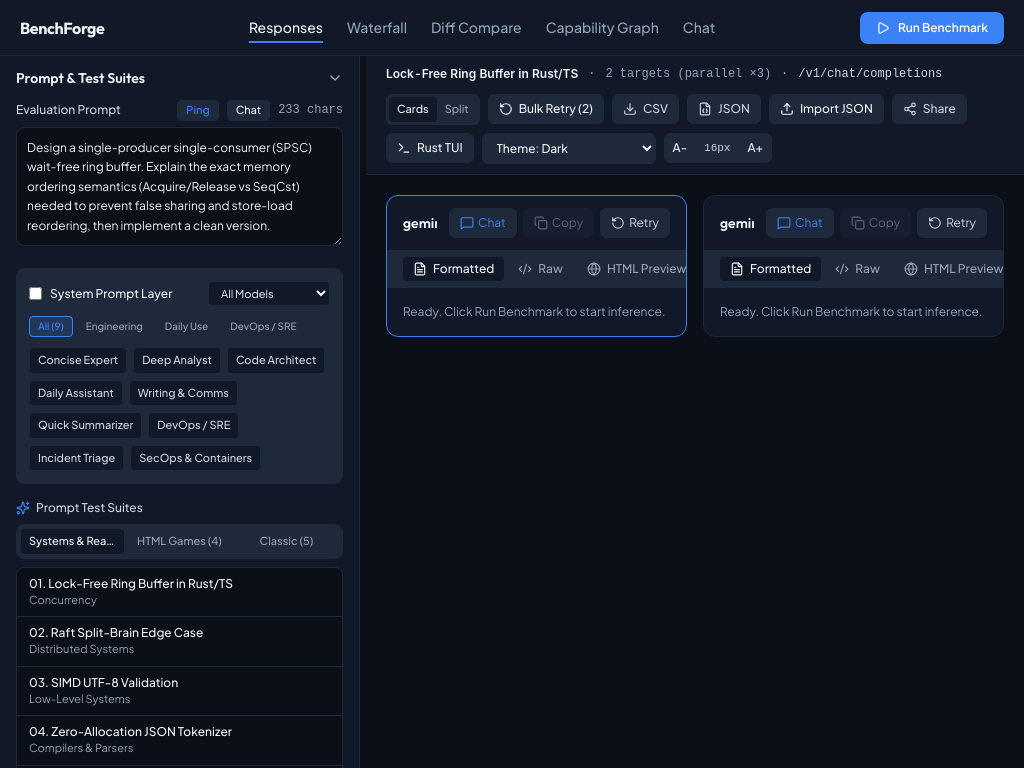
Test: Extended Coverage Suite (50+ Target) › supports Daily Use & DevOps Use personas, 100 max threads, and Endpoint Type selector in UI
Expected: the button "Systems & Reasoning (18)" is shown, [21,529,124,554]
Click the 2nd button "DevOps / SRE".
click(194, 425)  # box [148,412,239,439]
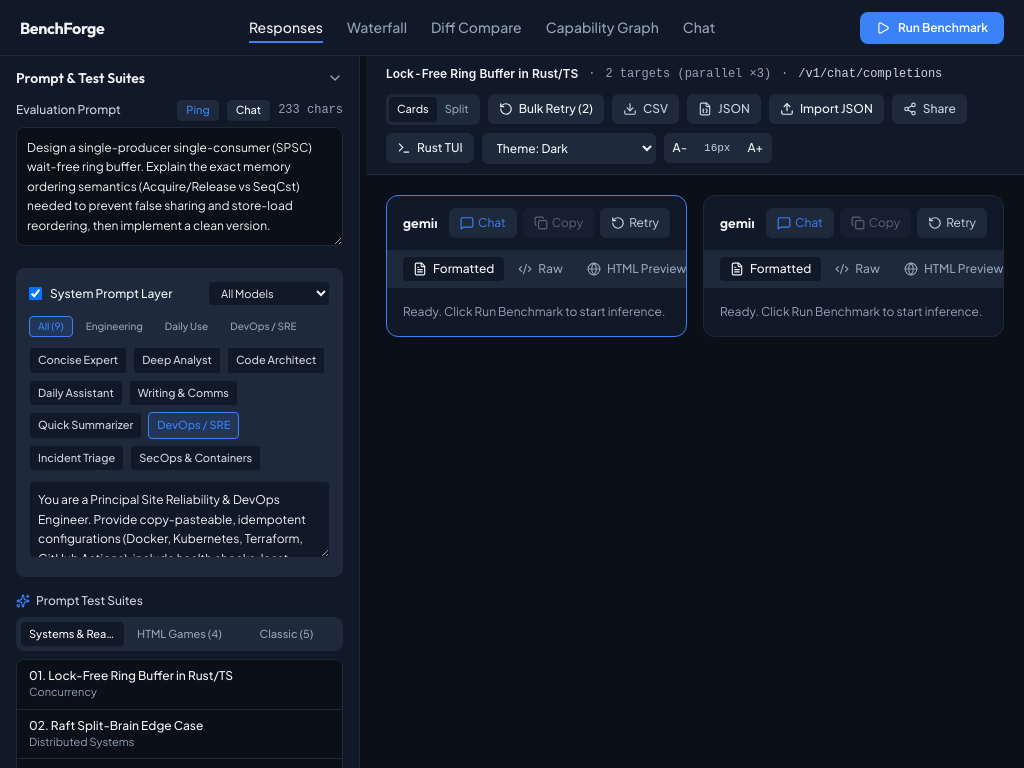
Result: the text box showing "Principal Site Reliability" is shown at [29,481,330,558]
Click the button "Daily Assistant".
click(76, 393)  # box [29,380,123,406]
(page scrolled)
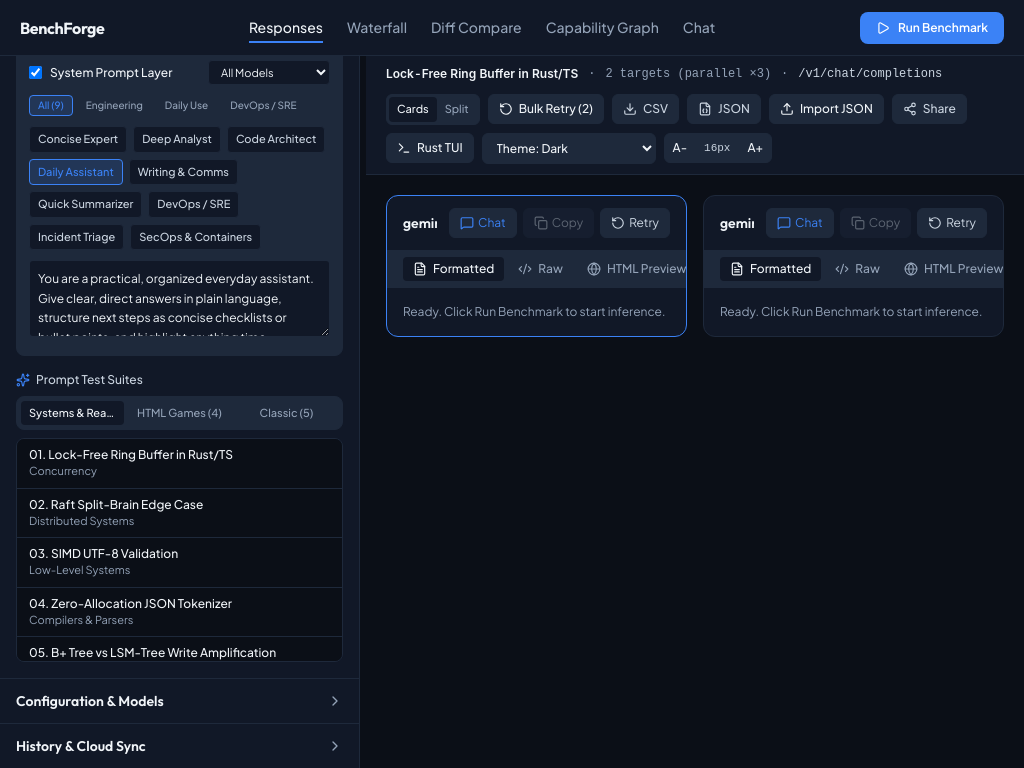
Result: the text box showing "everyday assistant" is shown at [29,260,330,337]
Click the button "Configuration & Models".
click(90, 701)  # box [0,679,359,723]
(page scrolled)
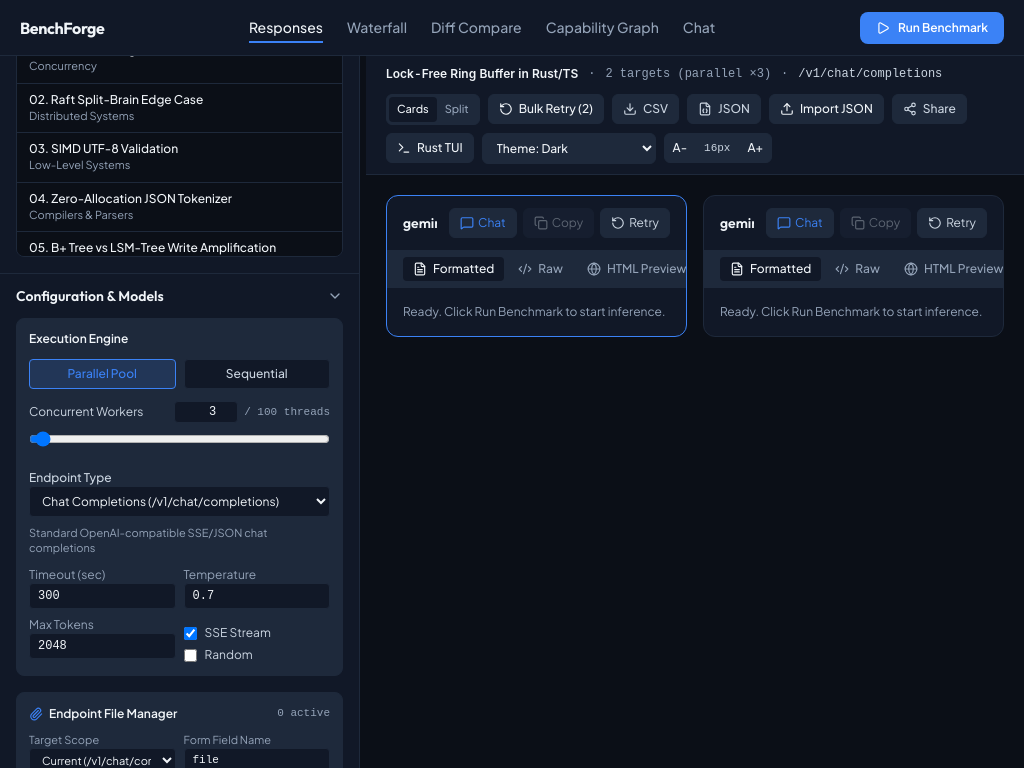
Replace the text in the number field named "Concurrent workers count" with "100" at (206, 412), box [174,401,238,423]
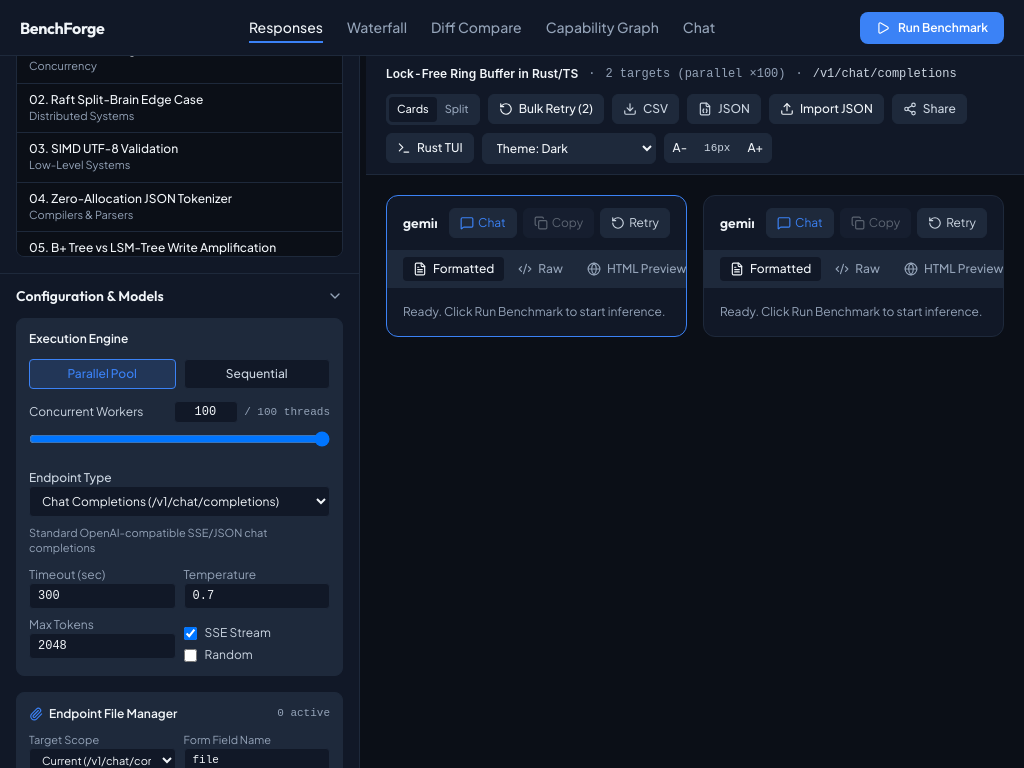
Select "Custom Endpoint (Custom path or URL)" in the dropdown labelled "Endpoint Type" at (180, 502), box [29,486,330,517]
(page scrolled)
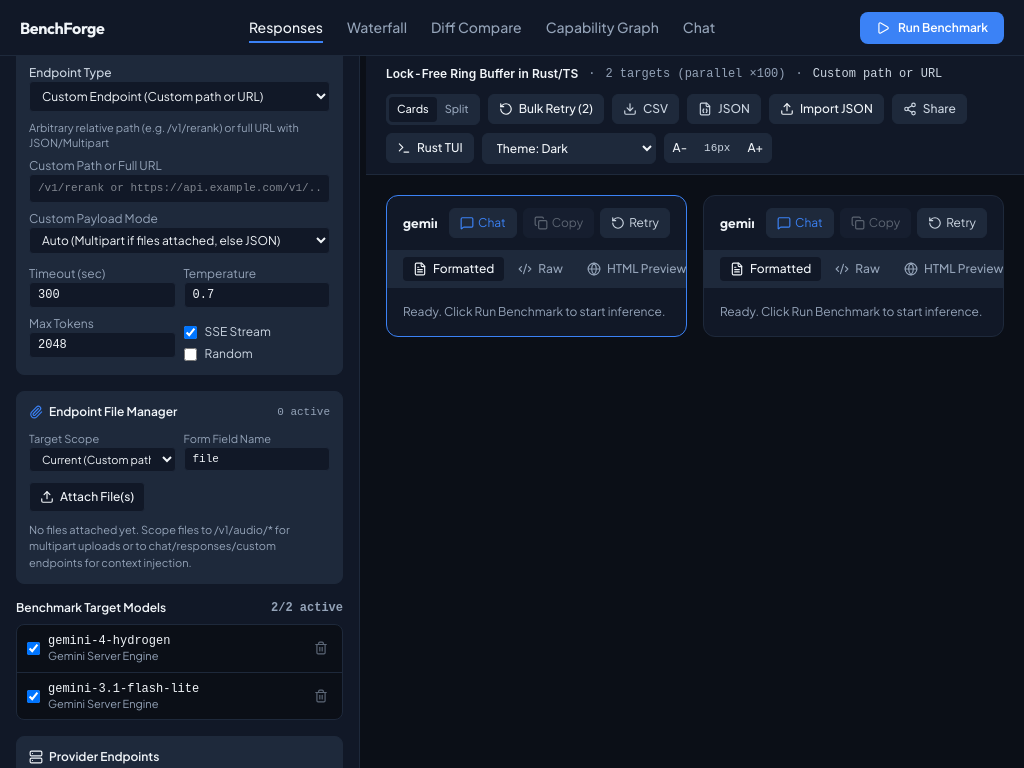
Result: the dropdown named "Upload file endpoint scope" is shown at [29,447,176,472]
Result: the text "Endpoint File Manager" is shown at [49,404,177,420]
Result: the field named "Custom endpoint path or URL" is shown at [29,174,330,203]
